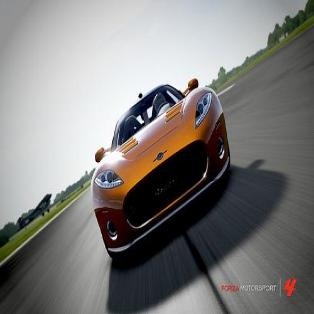Auto: (88, 80, 230, 262)
